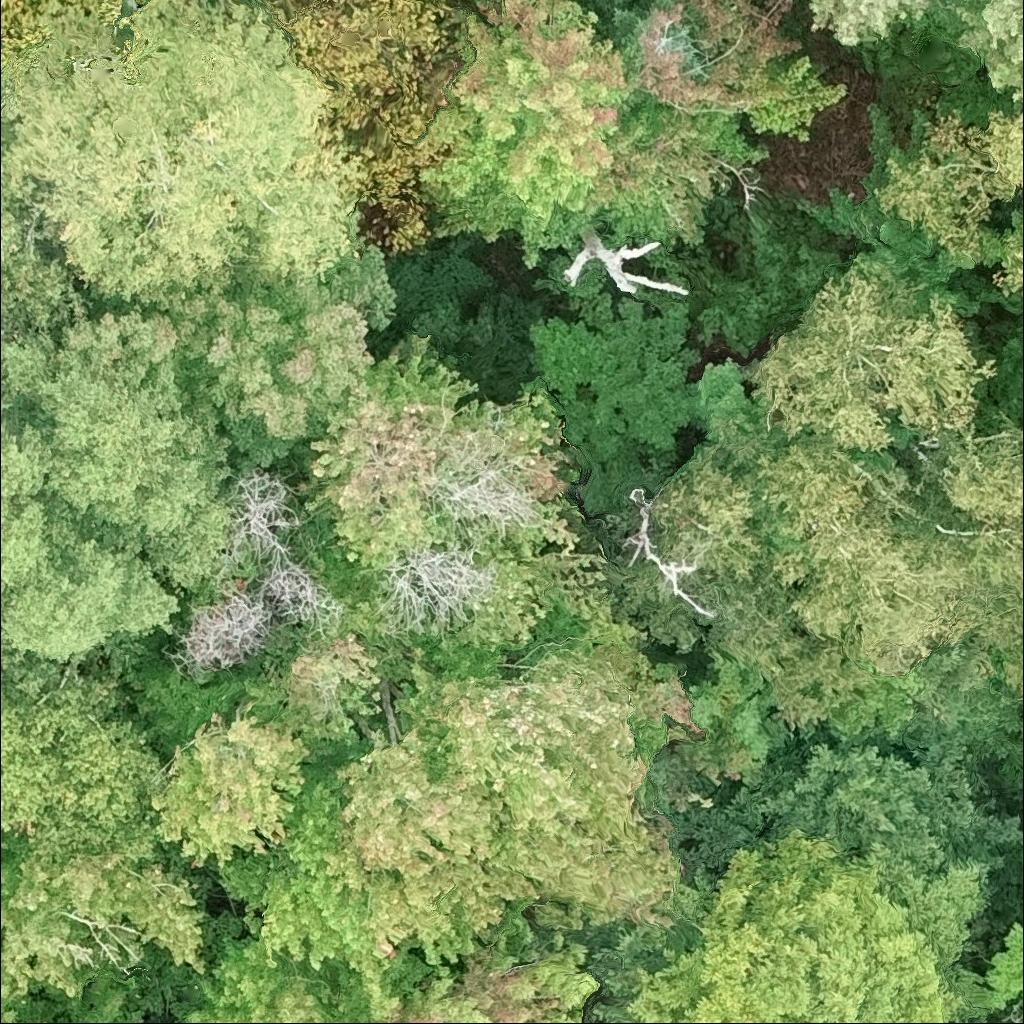crown: (147, 628, 700, 970), (652, 253, 1023, 727), (0, 0, 365, 329), (296, 328, 644, 669), (412, 0, 852, 261), (0, 310, 234, 700), (592, 823, 996, 1023), (57, 245, 398, 481), (186, 899, 602, 1023), (722, 730, 1023, 878), (0, 842, 212, 997), (0, 672, 167, 863), (806, 0, 1023, 110), (876, 107, 1023, 257), (372, 542, 494, 636), (0, 962, 148, 1023), (178, 587, 280, 672), (585, 0, 703, 73), (223, 467, 301, 564), (254, 552, 343, 635), (983, 921, 1023, 1015), (991, 209, 1023, 303), (1013, 837, 1023, 870), (1021, 896, 1023, 906)
